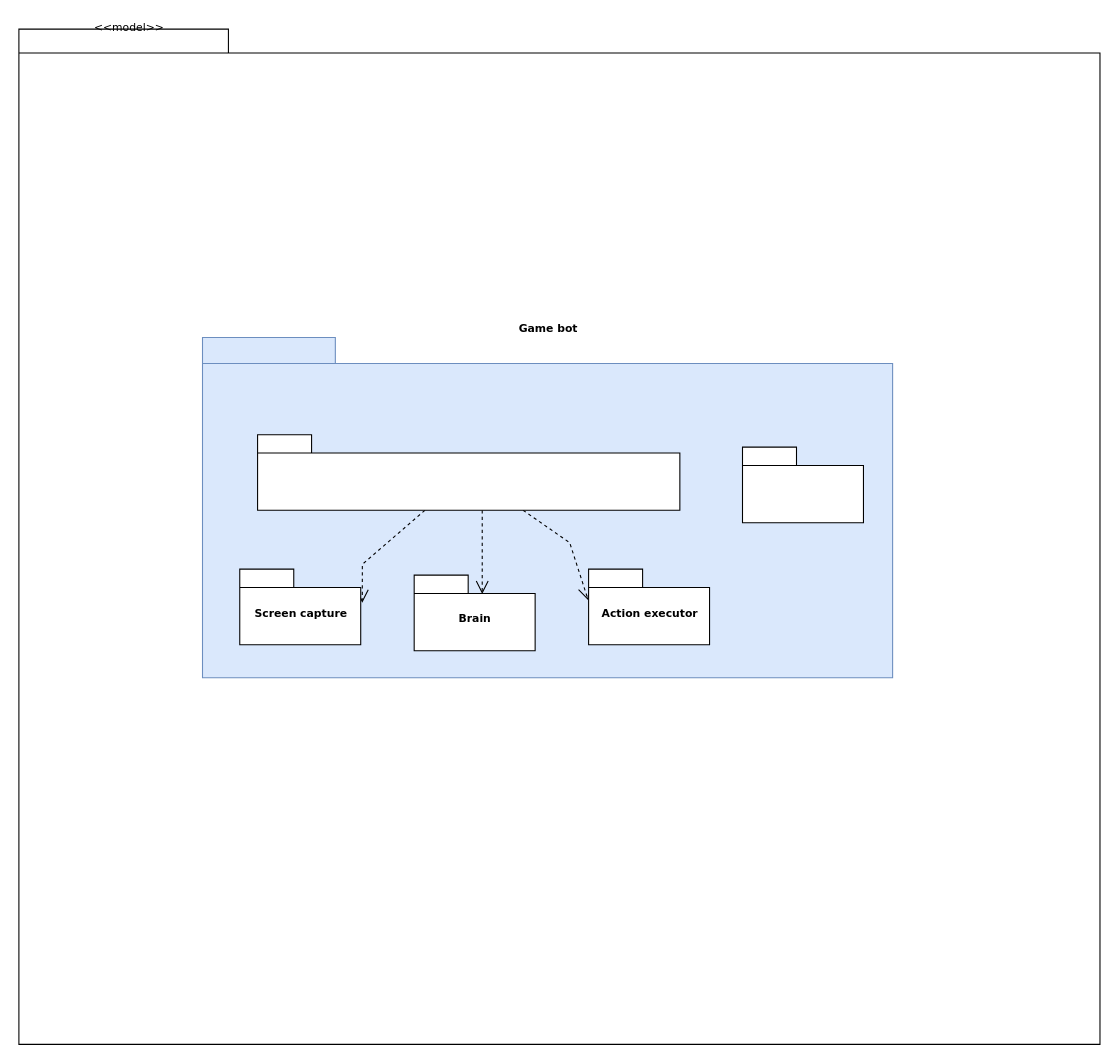
Image size: 1119x1064. Some labels were removed from this diagram. The centre of each missing label's shape, as x and y in pixels:
"Bot controller" goes at point 468,472.
"Data model" goes at point 802,484.
